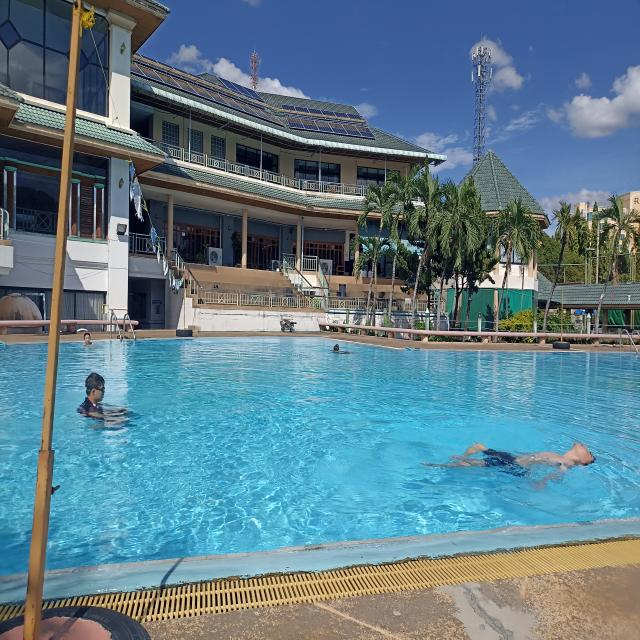Swimming: (428, 406, 604, 492), (77, 363, 125, 432), (318, 336, 354, 362), (82, 330, 99, 352)
